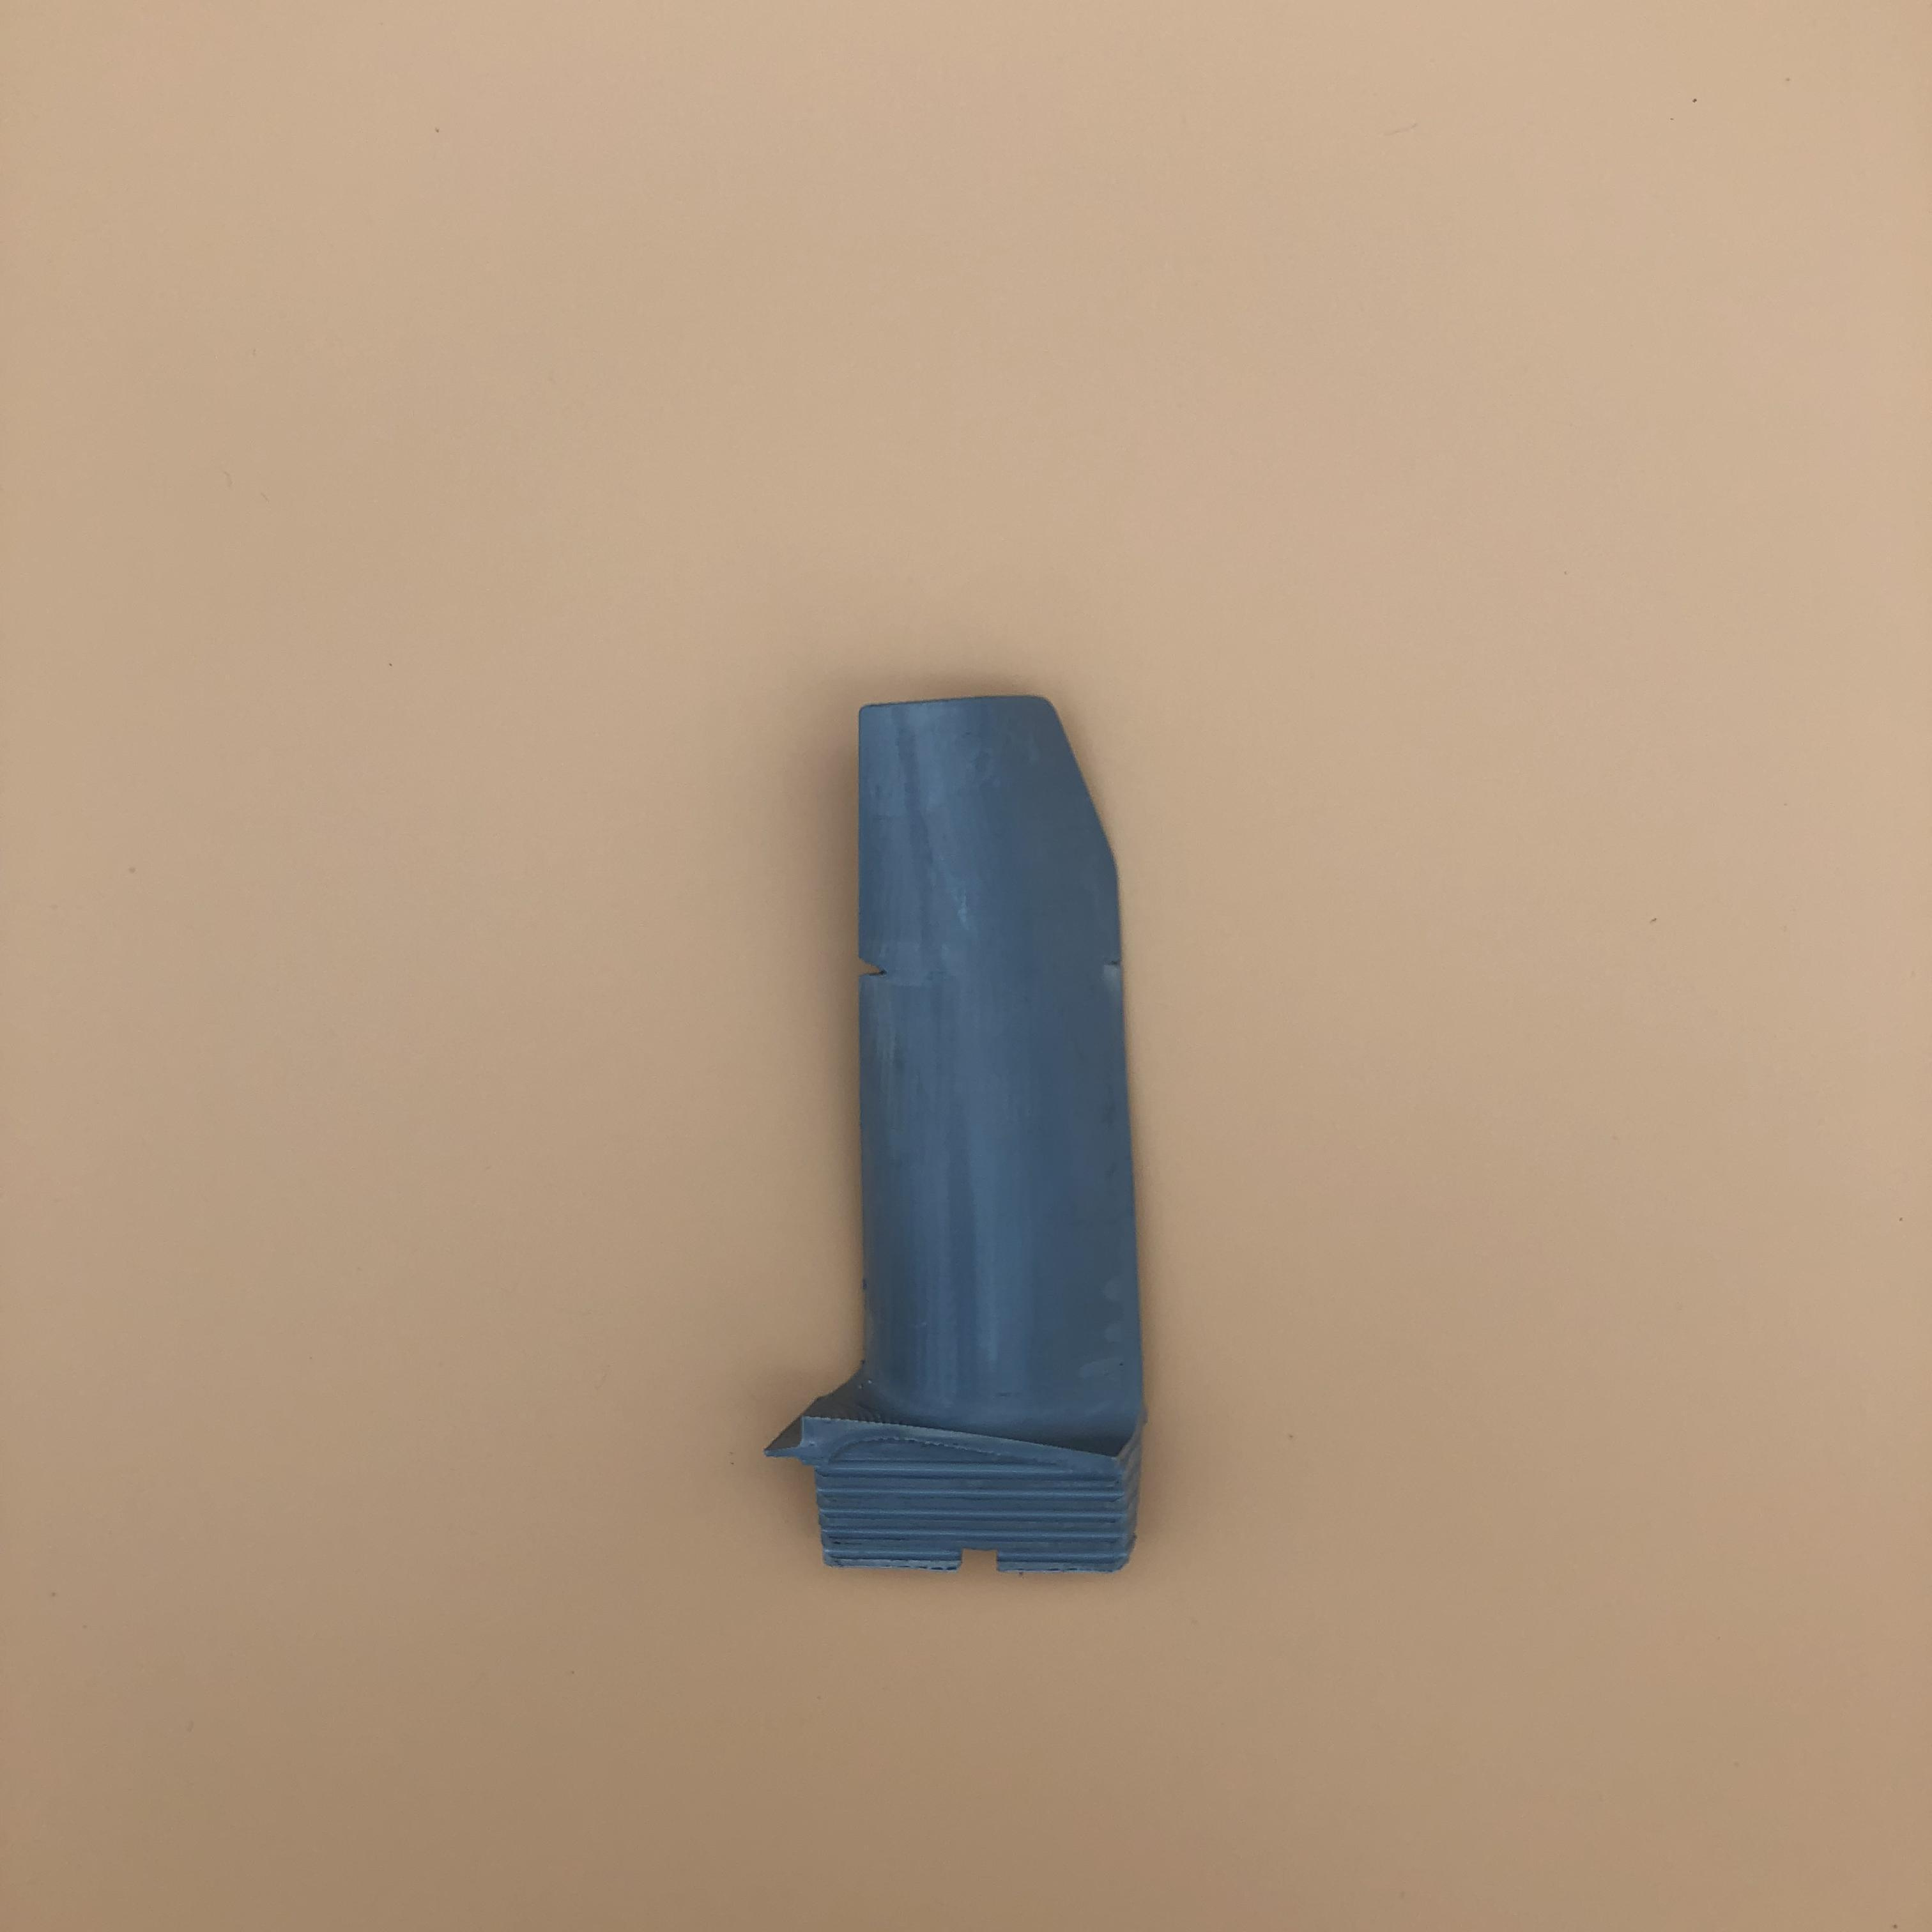groove: (855, 954, 901, 987), (1102, 955, 1127, 973)
